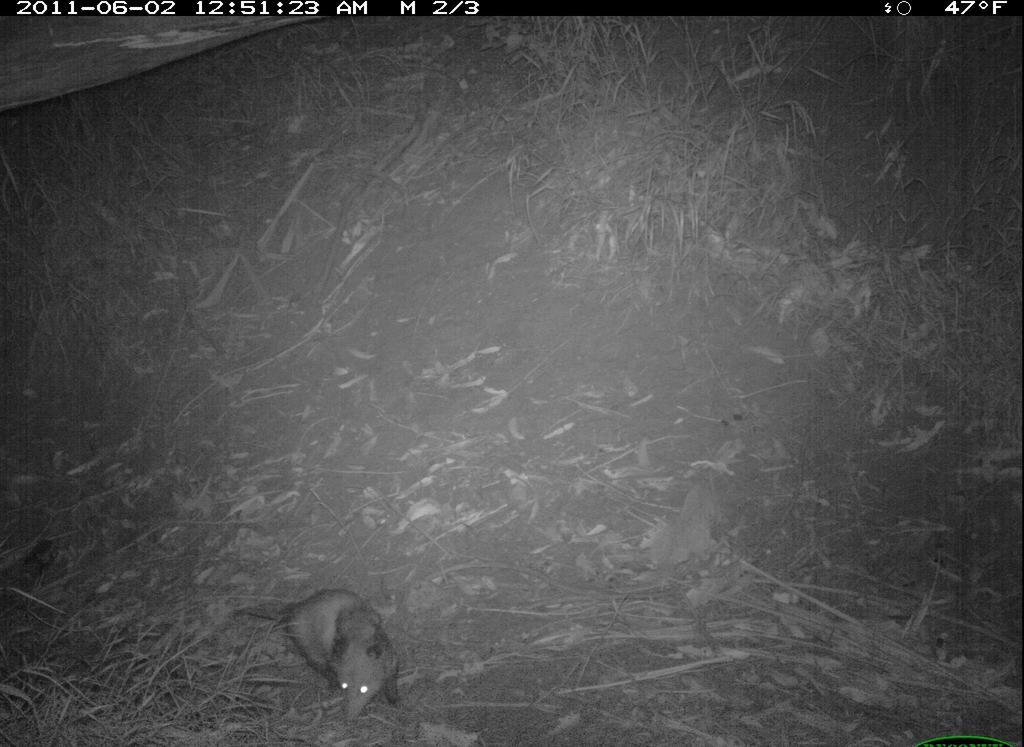opossum: (235, 584, 411, 725)
